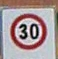limite 30: (8, 11, 48, 50)
